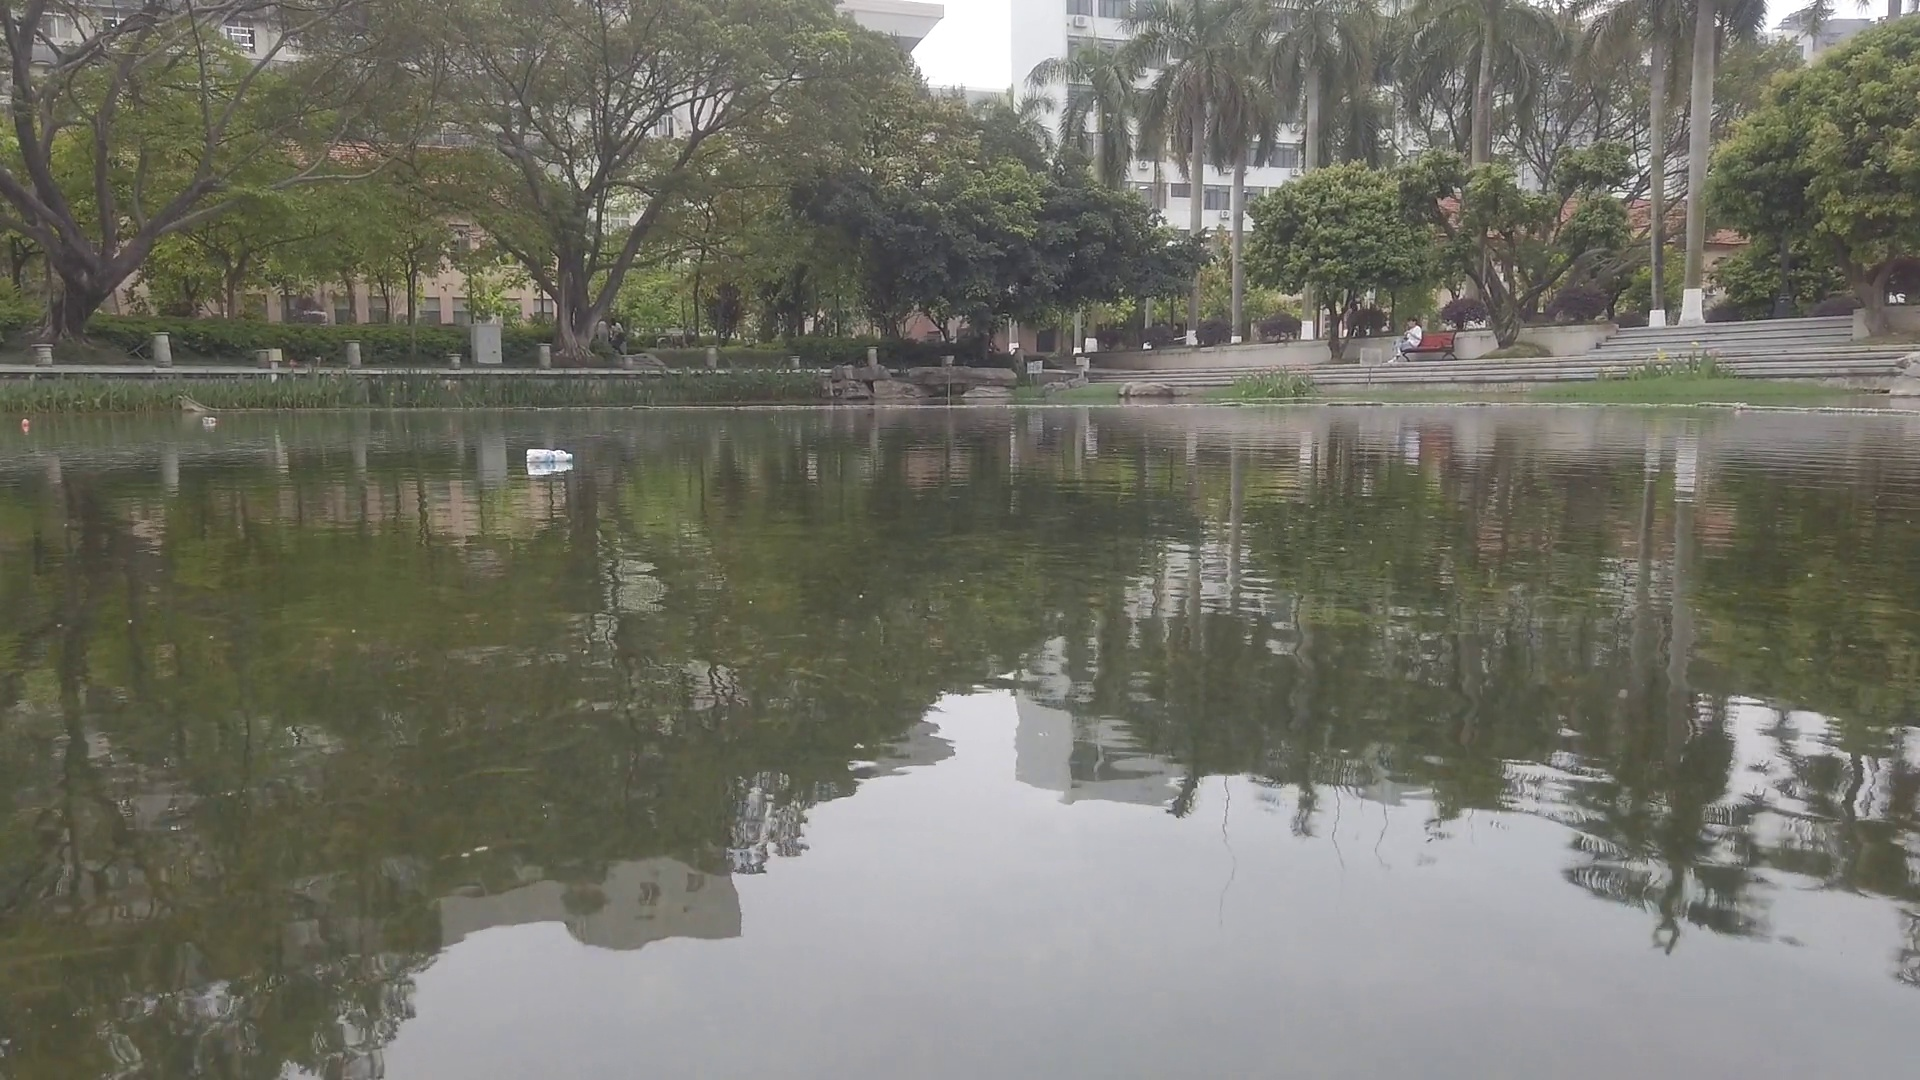bottle: (526, 446, 574, 465), (202, 413, 216, 429), (22, 418, 28, 433)
